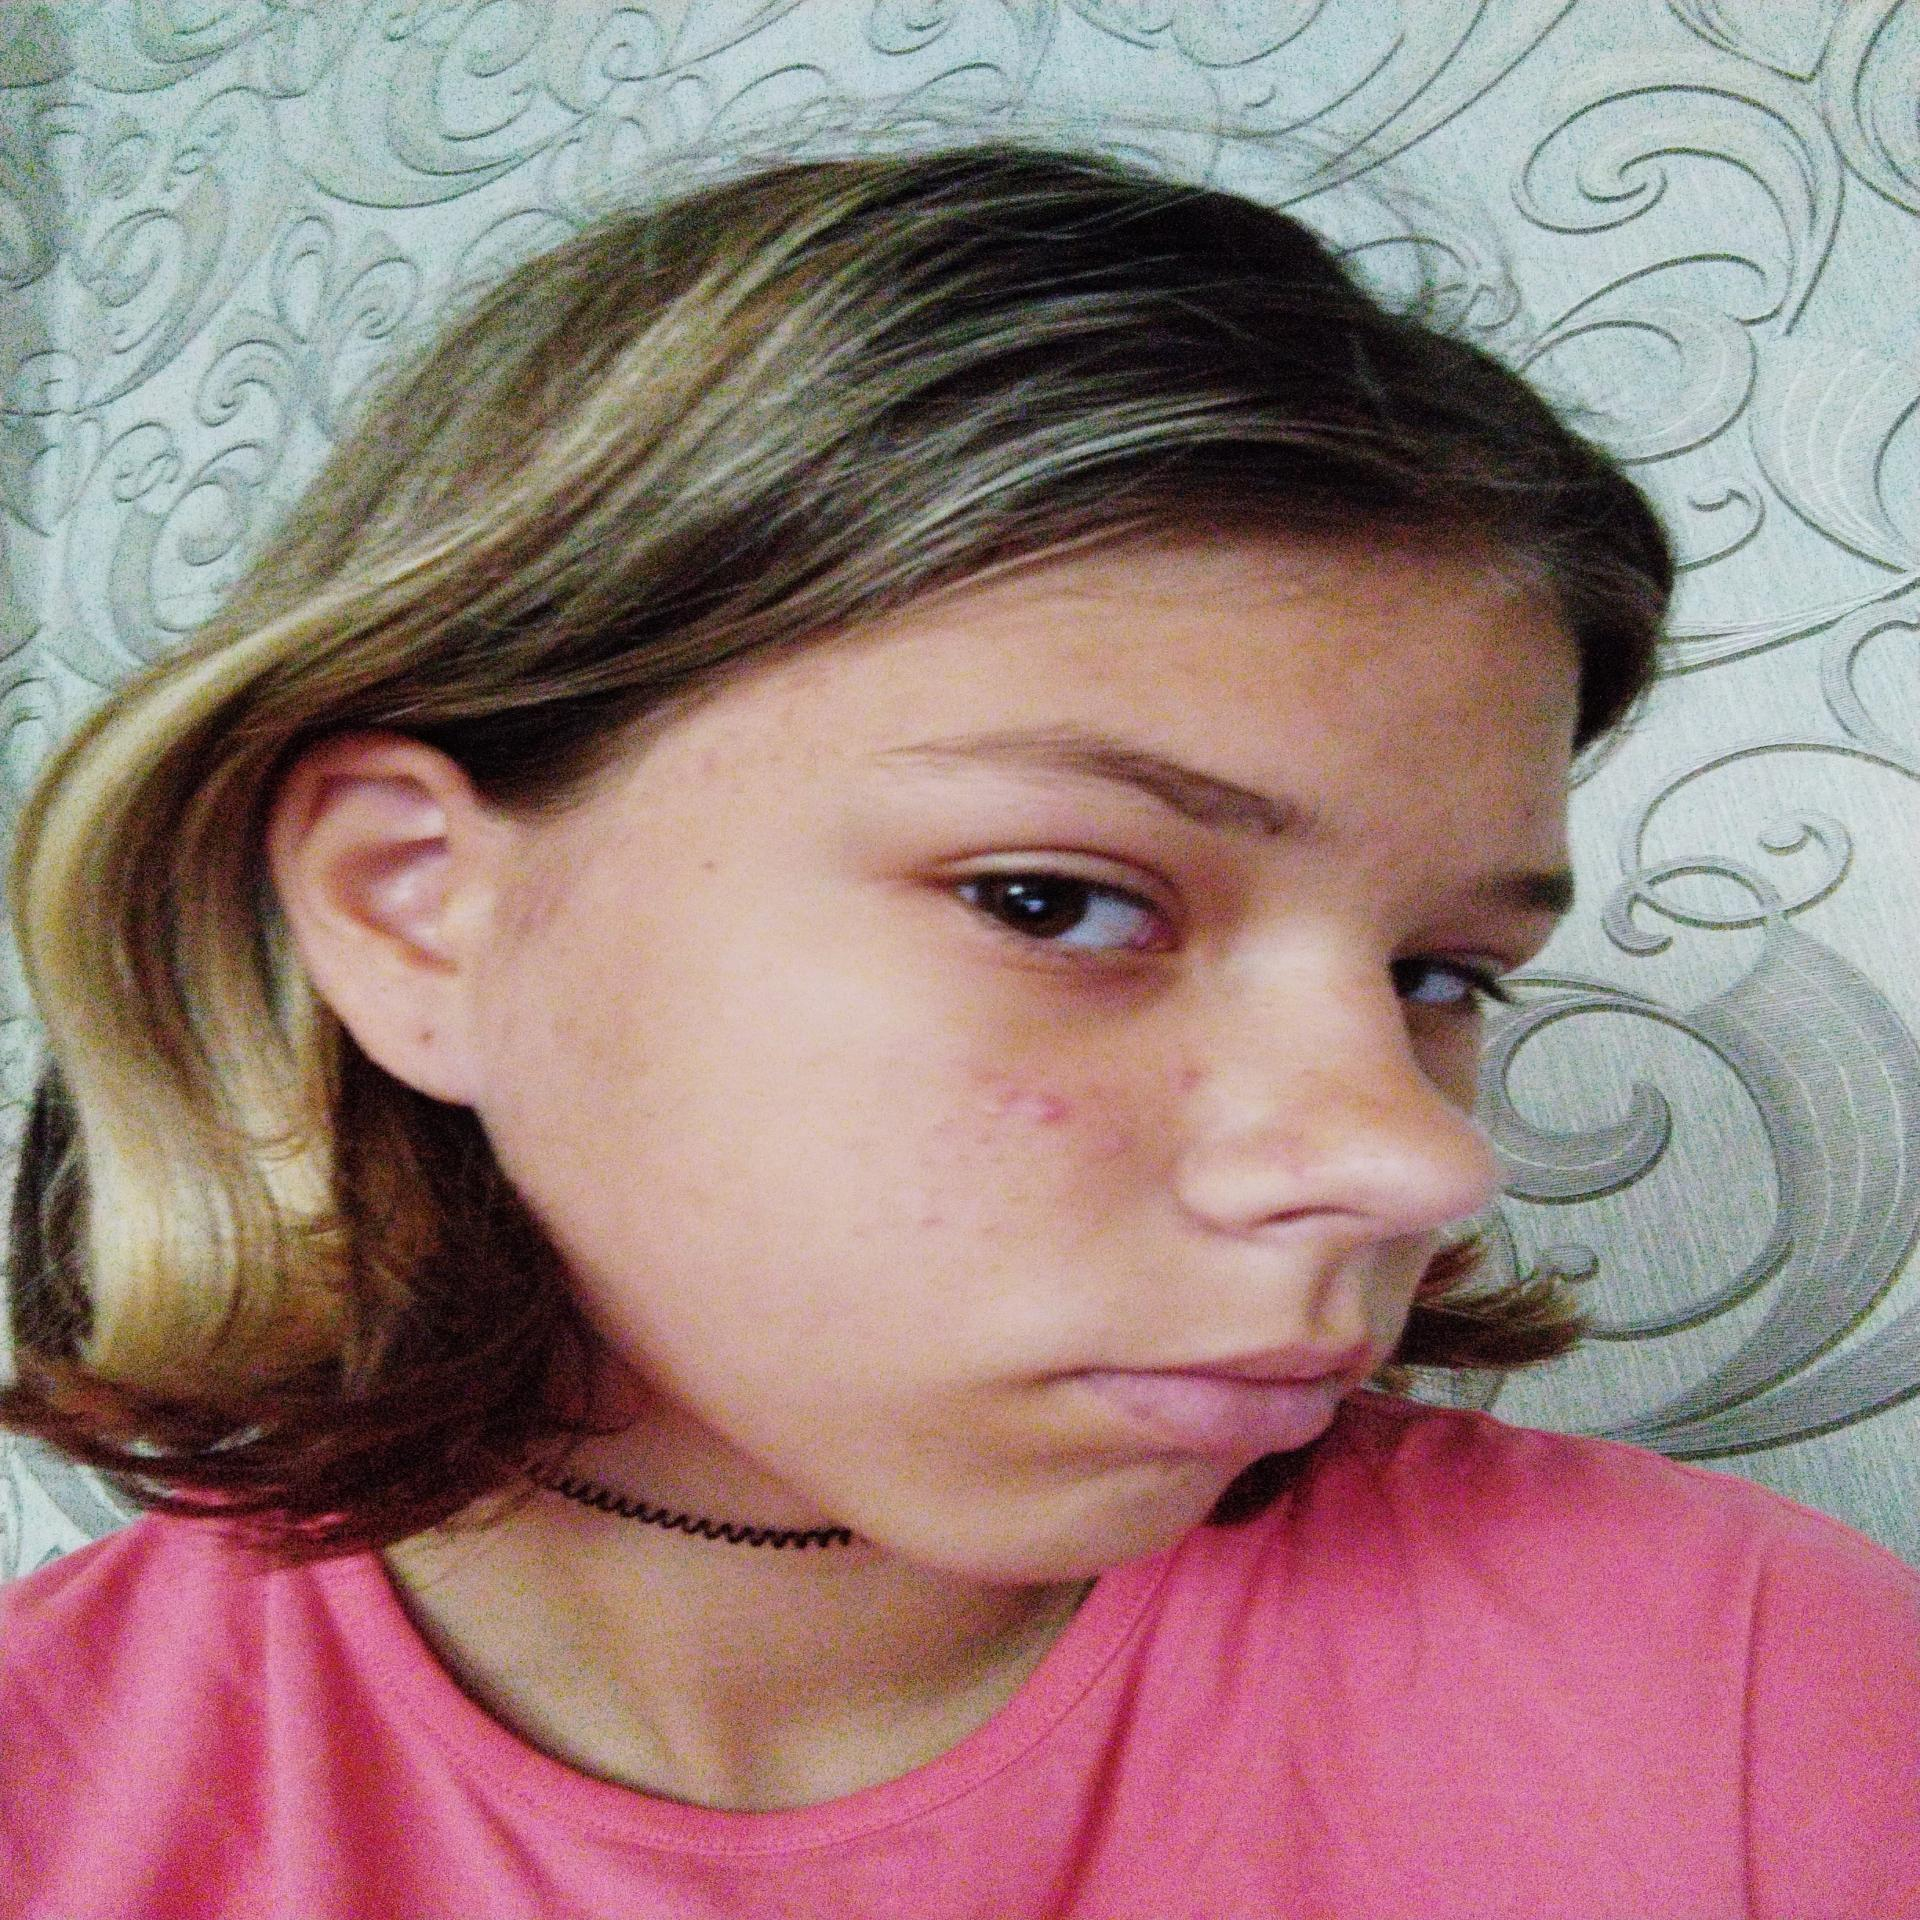Acne: (976, 1076, 1078, 1129), (670, 737, 775, 786), (902, 1203, 1013, 1248), (1264, 1129, 1319, 1178), (1503, 793, 1547, 832), (1171, 1060, 1213, 1099), (1090, 1132, 1139, 1164), (1465, 644, 1509, 672)
